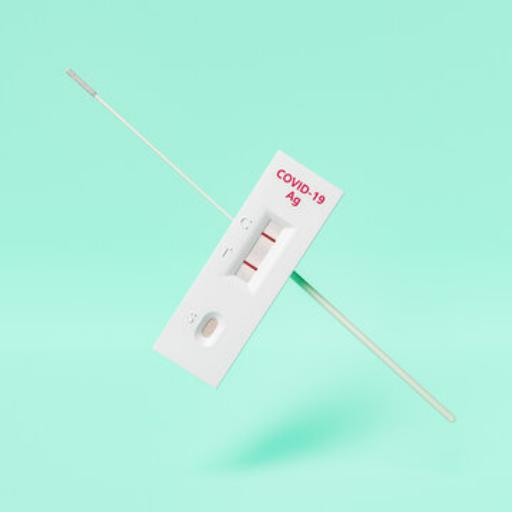Pos: (150, 151, 345, 391)
